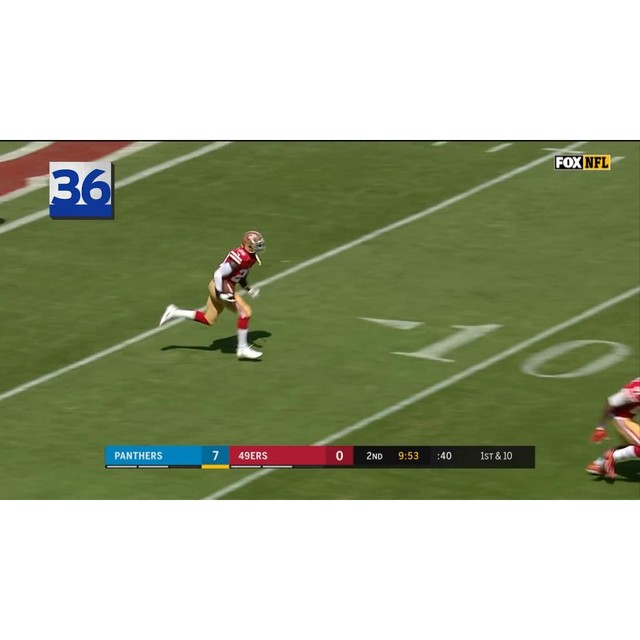american-football-player: (158, 229, 266, 360), (585, 375, 640, 478)
